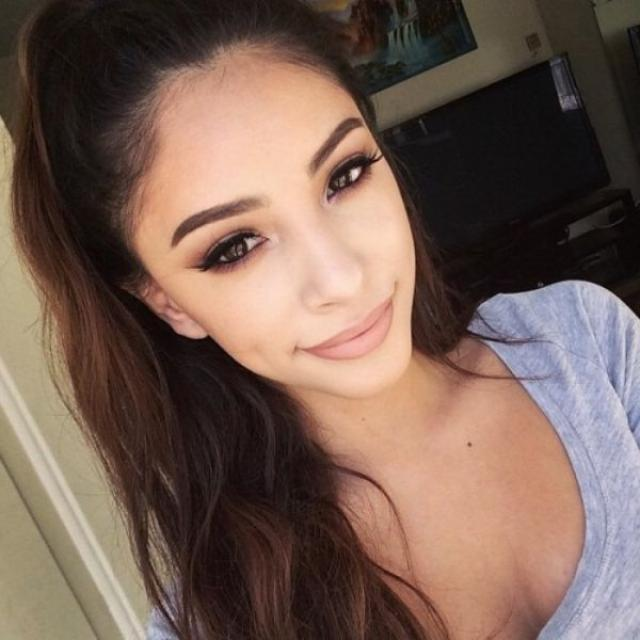earlobe: (174, 310, 206, 341)
eye: (202, 231, 271, 271), (325, 154, 371, 200)
nose: (310, 282, 388, 324)
wholeear: (106, 265, 207, 340)
